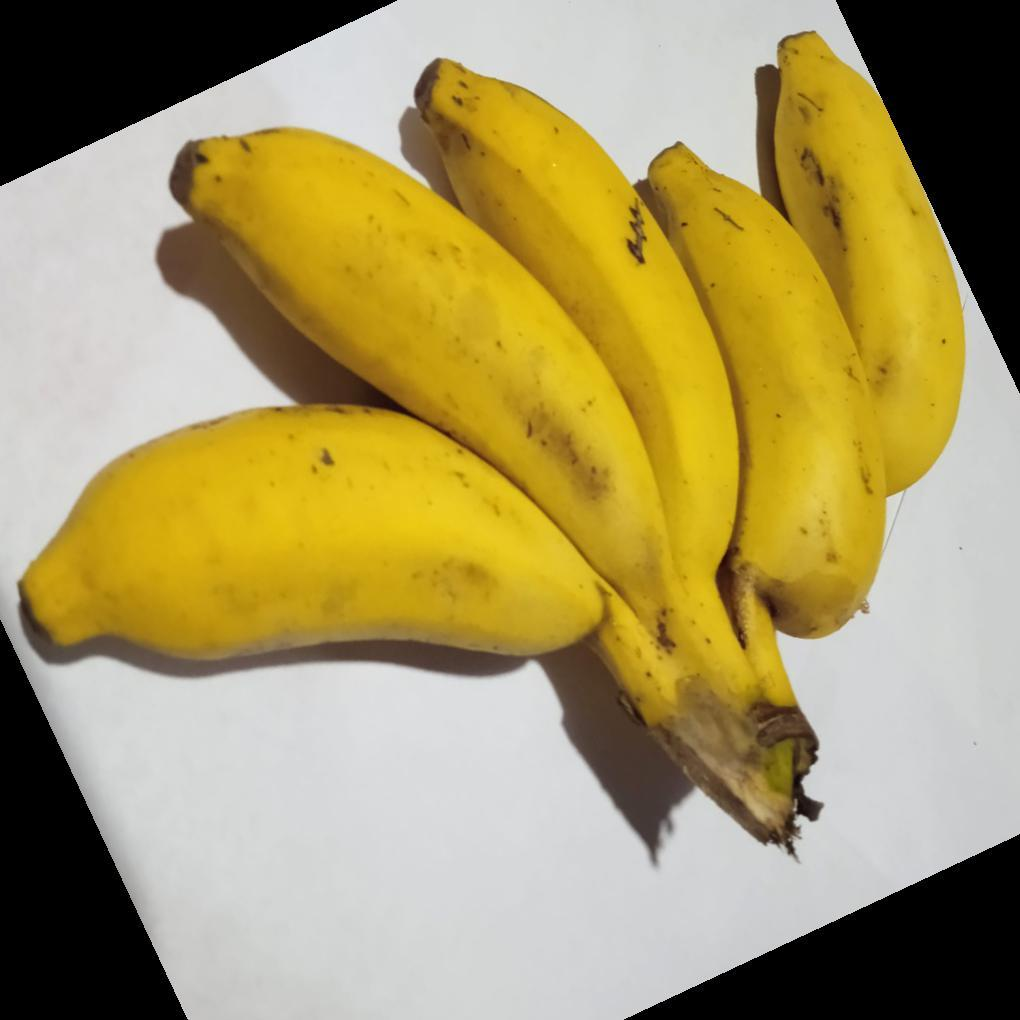Banana Ripe: (15, 17, 980, 886), (386, 21, 967, 767), (139, 104, 782, 771), (18, 379, 677, 803)
